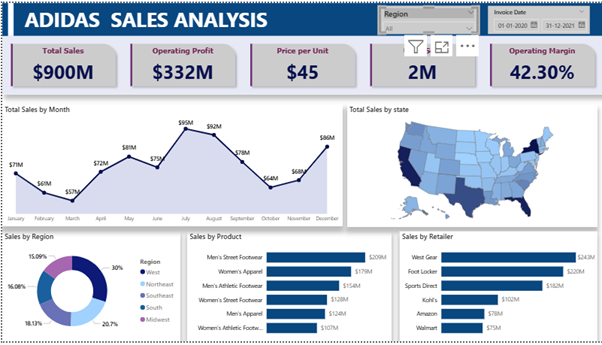

This screenshot's page, from the dashboard's own definition file:
{"tool":"powerbi","page":{"name":"Page 1","canvas":[1280,720],"ordinal":0},"visuals":[{"type":"shape","box":[24.7,0,1255.6,70],"z":0},{"type":"textbox","box":[0,0,612,70],"z":1000},{"type":"cardVisual","fields":{"Data":["Sum(Data Sales Adidas.Total Sales)","Sum(Data Sales Adidas.Operating Profit)","Avg(Data Sales Adidas.Price per Unit)","Sum(Data Sales Adidas.Units Sold)","Avg(Data Sales Adidas.Operating Margin)"]},"box":[0,69.7,1280.3,124.7],"z":2000},{"type":"areaChart","title":"Total Sales by Month","fields":{"Category":["Data Sales Adidas.Invoice Date.Variation.Date Hierarchy.Month"],"Y":["Sum(Data Sales Adidas.Total Sales)"]},"box":[0,215.4,725,260],"z":3000},{"type":"shapeMap","title":"Total Sales by state","fields":{"Value":["Sum(Data Sales Adidas.Total Sales)"],"Category":["Data Sales Adidas.State"]},"box":[733.7,215.2,533.2,260.5],"z":4000},{"type":"donutChart","title":"Sales by Region","fields":{"Category":["Data Sales Adidas.Region"],"Y":["Sum(Data Sales Adidas.Total Sales)"]},"box":[0,485.5,379.1,234.8],"z":5000},{"type":"barChart","title":"Sales by Product","fields":{"Y":["Sum(Data Sales Adidas.Total Sales)"],"Category":["Data Sales Adidas.Product"]},"box":[393.8,485.5,435.3,234.8],"z":6000},{"type":"barChart","title":"Sales by Retailer","fields":{"Y":["Sum(Data Sales Adidas.Total Sales)"],"Category":["Data Sales Adidas.Retailer"]},"box":[846.2,485.5,420.7,234.8],"z":7000},{"type":"slicer","fields":{"Values":["Data Sales Adidas.Region"]},"box":[800,5.6,216.7,60],"z":8000},{"type":"slicer","fields":{"Values":["Data Sales Adidas.Invoice Date"]},"box":[1034.4,5.6,216.7,60],"z":9000},{"type":"shape","box":[0,0,12.3,70],"z":9001}]}

Visuals, with their boxes in screenshot pixels (x1, y1, x2, y2), scaled from the page's 1280x720 canvas onto the 602x345 screenshot:
shape: <bbox>12, 0, 601, 34</bbox>
textbox: <bbox>0, 0, 288, 34</bbox>
cardVisual - Sum(Data Sales Adidas.Total Sales) x Sum(Data Sales Adidas.Operating Profit): <bbox>0, 33, 601, 93</bbox>
"Total Sales by Month" areaChart: <bbox>0, 103, 341, 228</bbox>
"Total Sales by state" shapeMap: <bbox>345, 103, 596, 228</bbox>
"Sales by Region" donutChart: <bbox>0, 233, 178, 344</bbox>
"Sales by Product" barChart: <bbox>185, 233, 390, 344</bbox>
"Sales by Retailer" barChart: <bbox>398, 233, 596, 344</bbox>
slicer - Data Sales Adidas.Region: <bbox>376, 3, 478, 31</bbox>
slicer - Data Sales Adidas.Invoice Date: <bbox>486, 3, 588, 31</bbox>
shape: <bbox>0, 0, 6, 34</bbox>
